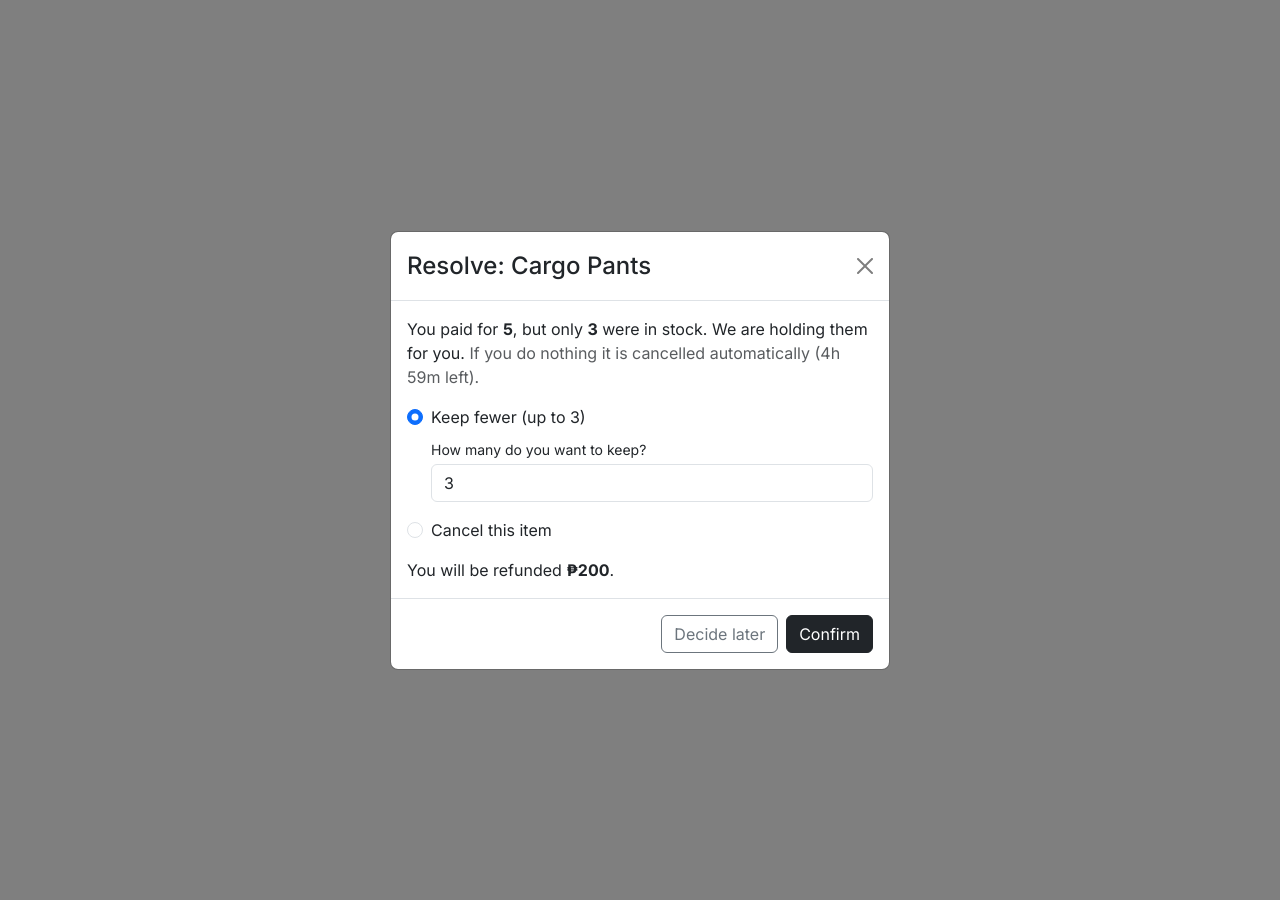
a server-side 400 stays open and shows the message
Click the button "Confirm" at point(830, 634), box [786,614,873,652]
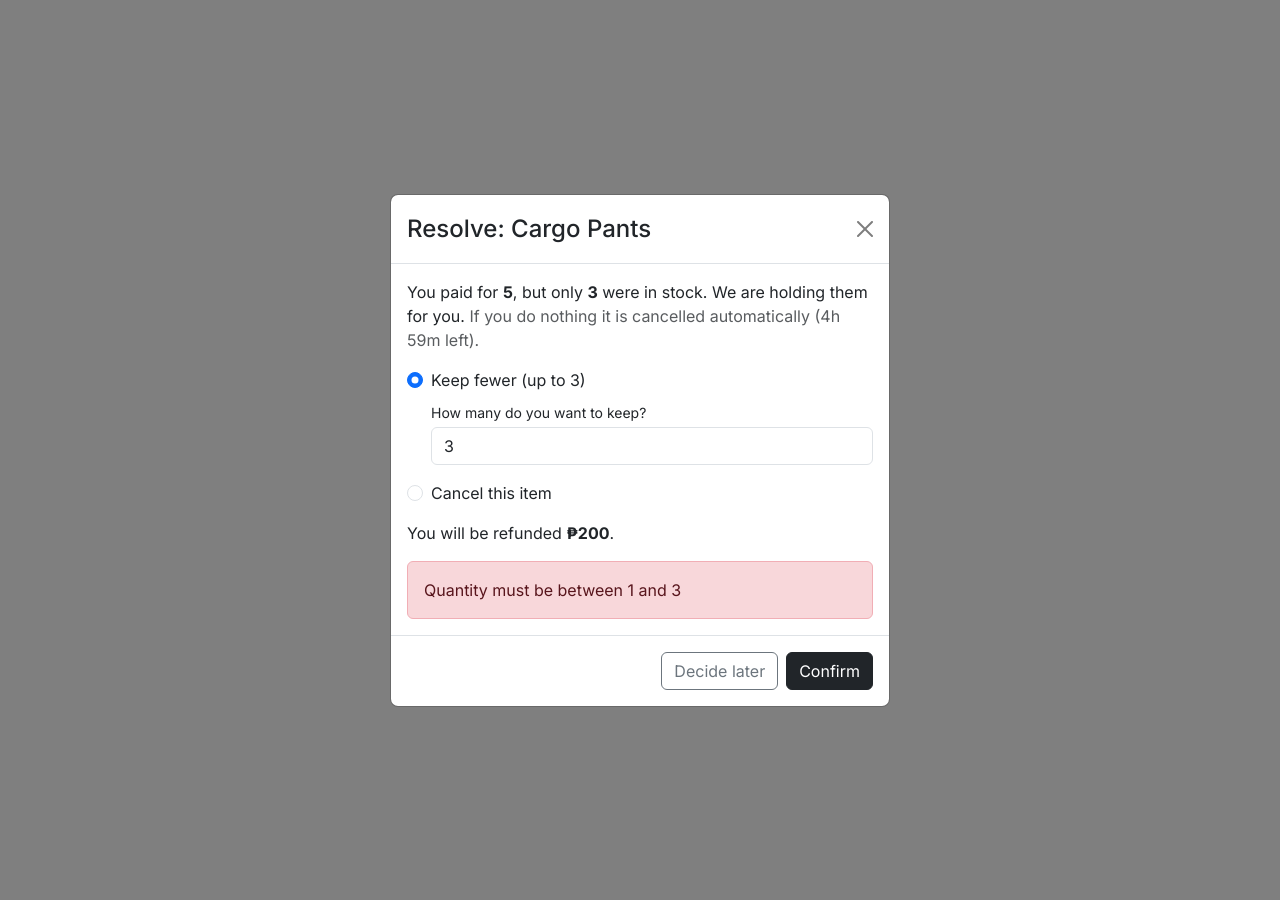
expect the text "Quantity must be between 1 and 3" is shown: met, box [407,560,873,618]
